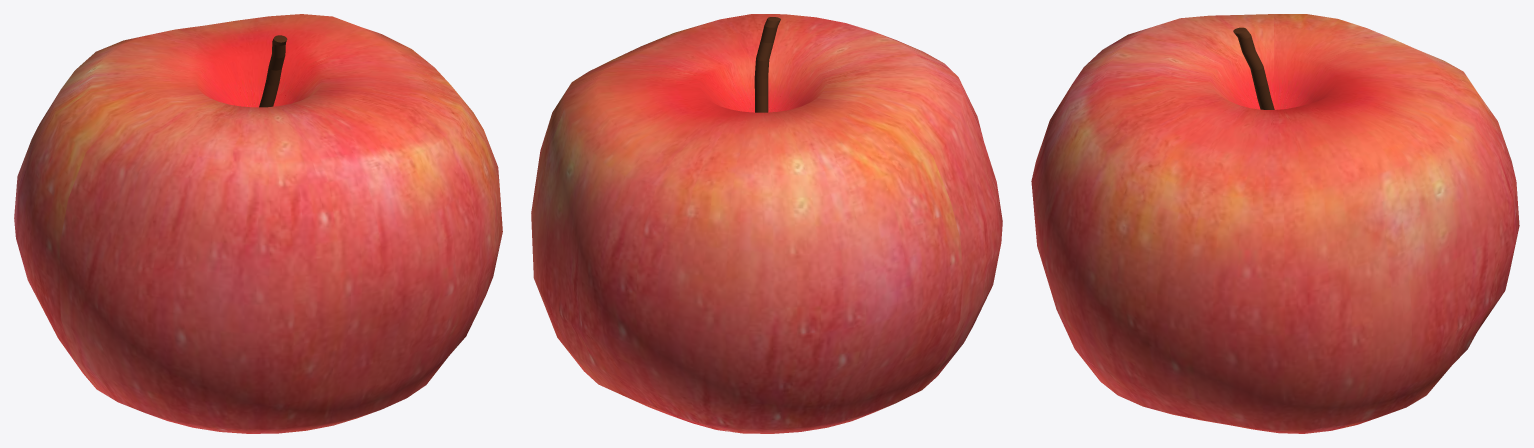
File: apple.fbx
The picture shows the model from 3 angles, left to right: view 1: azimuth 30°, elevation 25°; view 2: azimuth 150°, elevation 25°; view 3: azimuth 270°, elevation 25°; orthographic projection.
Parts seen in each view (by area): view 1: Sphere; view 2: Sphere; view 3: Sphere.
Part boxes in pixels (x1,y1,x2,y2): Sphere: (14,14,502,433); Sphere: (531,14,1002,433); Sphere: (1031,14,1519,433).
Bounding box in the file's own units: 194 × 154 × 197.
2 materials, 1 textured.
